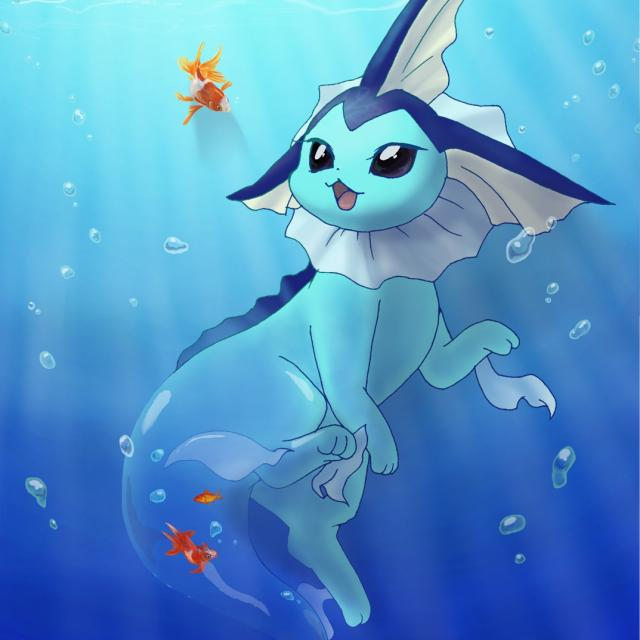Vaporeon: (219, 38, 519, 579)
